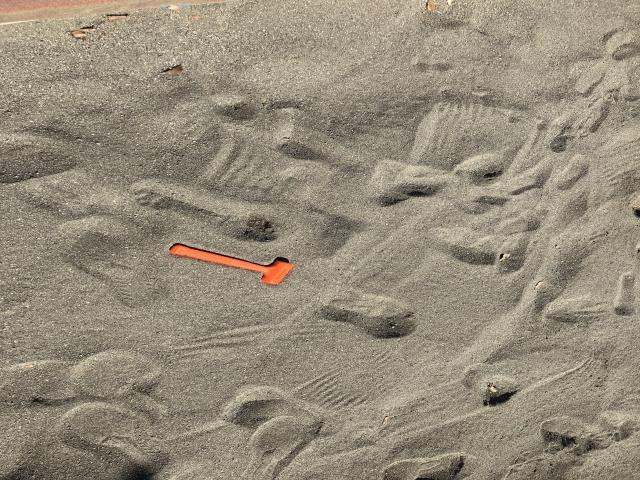hammer: (169, 244, 294, 286)
